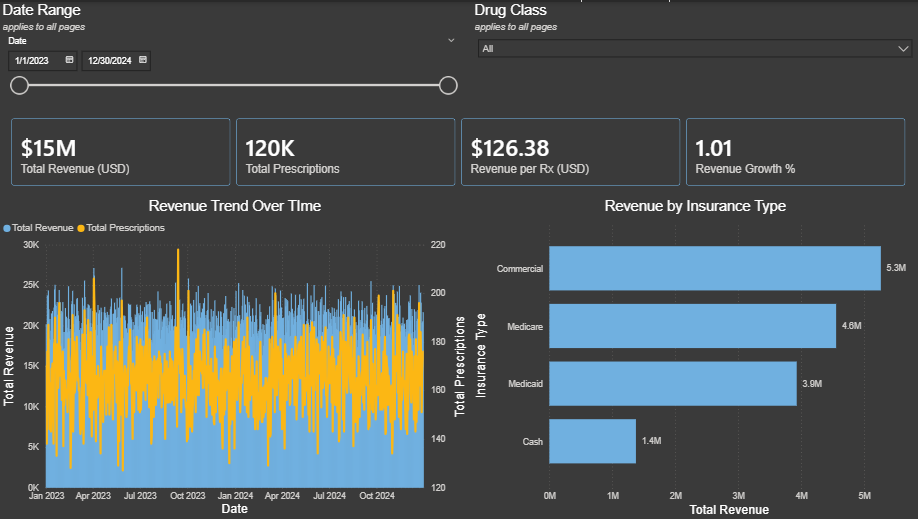

This screenshot's page, from the dashboard's own definition file:
{"tool":"powerbi","page":{"name":"Revenue Performance & Trends","canvas":[1280,720],"ordinal":4},"visuals":[{"type":"barChart","title":"Revenue by Insurance Type","fields":{"Y":["date_table.Total Revenue"],"Category":["revenue_rx_by_insurance_day.InsuranceType"]},"box":[656,272,624,448],"z":0},{"type":"cardVisual","fields":{"Data":["date_table.Total Revenue KPI","date_table.Total Prescriptions","date_table.Revenue per Rx","date_table.Revenue Growth %"]},"box":[0,144,1280,128],"z":1000},{"type":"lineStackedColumnComboChart","title":"Revenue Trend Over TIme","fields":{"Y":["date_table.Total Revenue"],"Category":["date_table.Date"],"Y2":["date_table.Total Prescriptions (Rev)"]},"box":[0,272,656,448],"z":2000},{"type":"group","id":"g1","title":"Group 1","box":[0,0,1280,144],"z":3000},{"type":"slicer","title":"Date Range","fields":{"Values":["date_table.Date"]},"box":[0,0,647,144],"z":4000,"group":"g2"},{"type":"slicer","title":"Drug Class","fields":{"Values":["Dim_DrugClass.pharm_classes"]},"box":[656,0,624,144],"z":7000,"group":"g2"},{"type":"group","id":"g2","title":"Group 2","box":[0,0,1280,144],"z":7002,"group":"g1"}]}

Visuals, with their boxes in screenshot pixels (x1, y1, x2, y2), scaled from the page's 1280x720 canvas onto the 918x519 screenshot:
"Revenue by Insurance Type" barChart: x1=470 y1=196 x2=917 y2=518
cardVisual - date_table.Total Revenue KPI x date_table.Total Prescriptions: x1=0 y1=104 x2=917 y2=196
"Revenue Trend Over TIme" lineStackedColumnComboChart: x1=0 y1=196 x2=470 y2=518
"Group 1" group: x1=0 y1=0 x2=917 y2=104
"Date Range" slicer: x1=0 y1=0 x2=464 y2=104
"Drug Class" slicer: x1=470 y1=0 x2=917 y2=104
"Group 2" group: x1=0 y1=0 x2=917 y2=104
